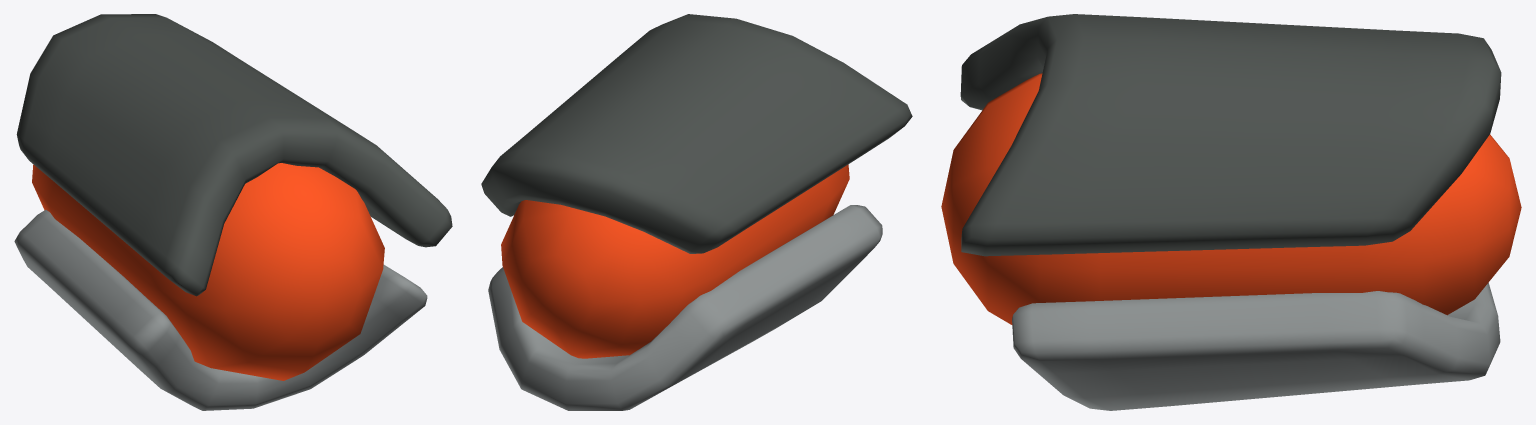
The model's file is xsens_LeftSecondMP.dae.
3 views of the same model, side by side, from view 1: azimuth 30°, elevation 25°; view 2: azimuth 150°, elevation 25°; view 3: azimuth 270°, elevation 25° (orthographic). The views are drawn at different scales.
Visible parts, largest first — view 1: LeftSecondMP; view 2: LeftSecondMP; view 3: LeftSecondMP.
Boxes of the visible parts, x1,y1,x2,y2 form: LeftSecondMP: (14,14,452,410); LeftSecondMP: (481,14,912,410); LeftSecondMP: (941,14,1521,410).
Bounding box in the file's own units: 0.0185 × 0.0267 × 0.0182.
